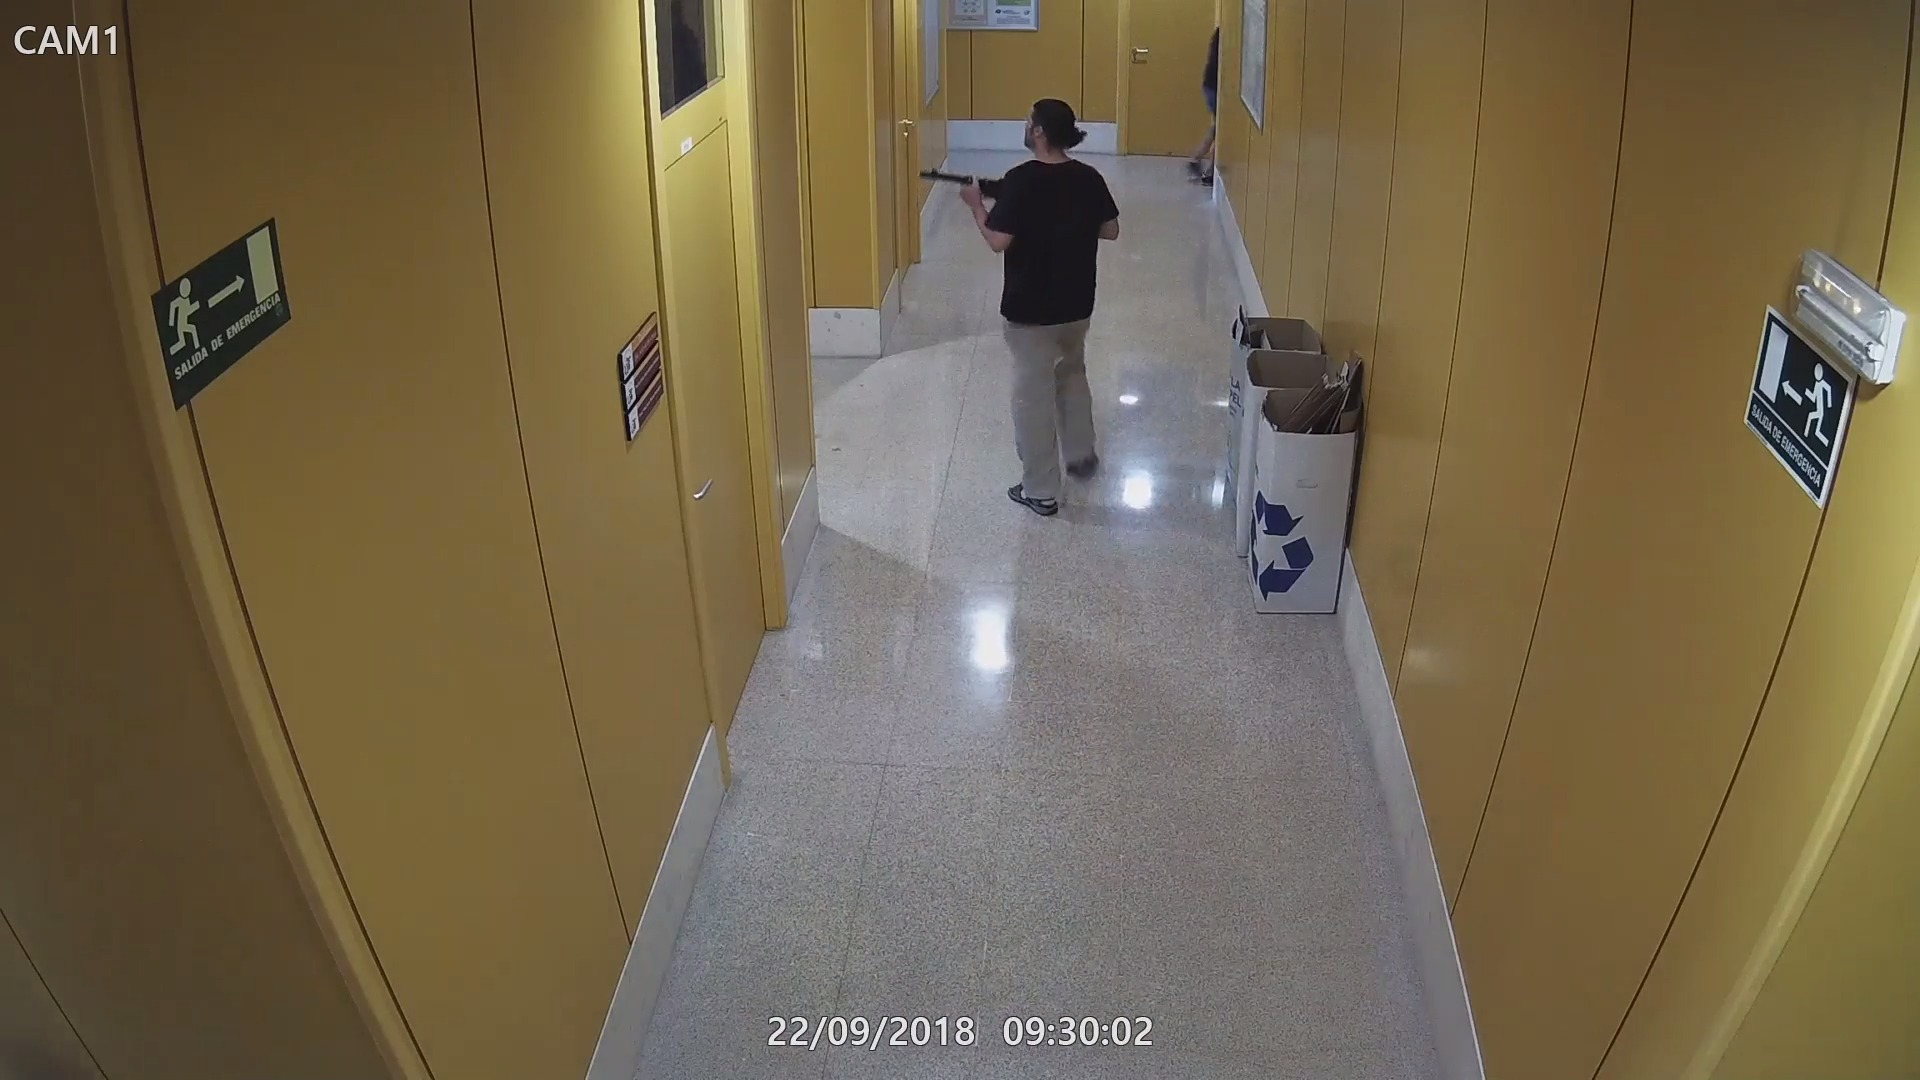rifle: (916, 165, 1004, 198)
